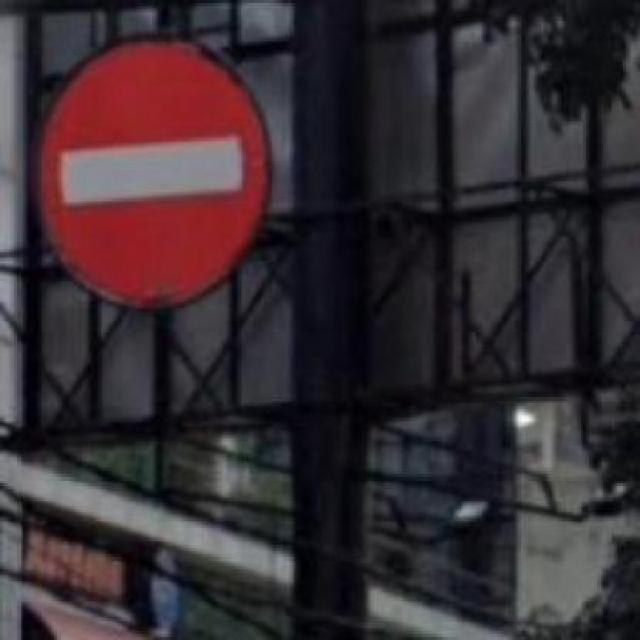no entry: (33, 37, 279, 307)
